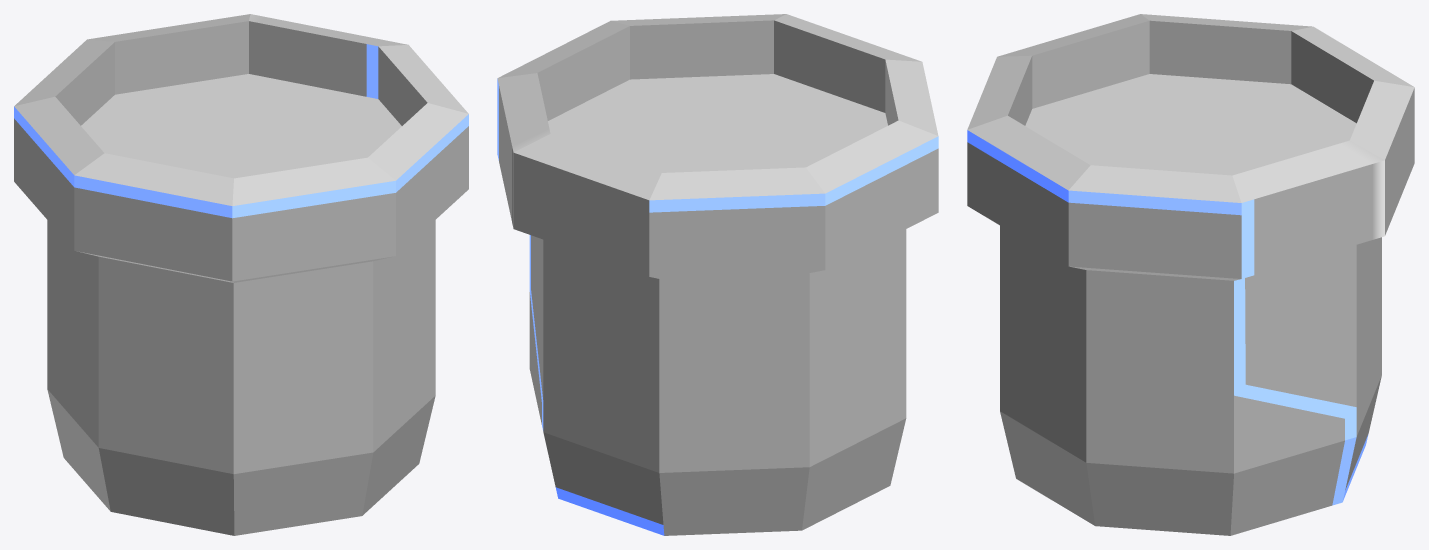
Rendered from pot_plantes_connectée.fbx.
3 views of the same model, side by side, from view 1: azimuth 30°, elevation 25°; view 2: azimuth 150°, elevation 25°; view 3: azimuth 270°, elevation 25° (orthographic).
Parts seen in each view (by area): view 1: pot.tech; view 2: pot.tech; view 3: pot.tech.
Part boxes in pixels (x1,y1,x2,y2): pot.tech: (14, 14, 468, 535); pot.tech: (497, 14, 938, 535); pot.tech: (967, 14, 1414, 535).
Bounding box in the file's own units: 18.06 × 16.21 × 18.06.
